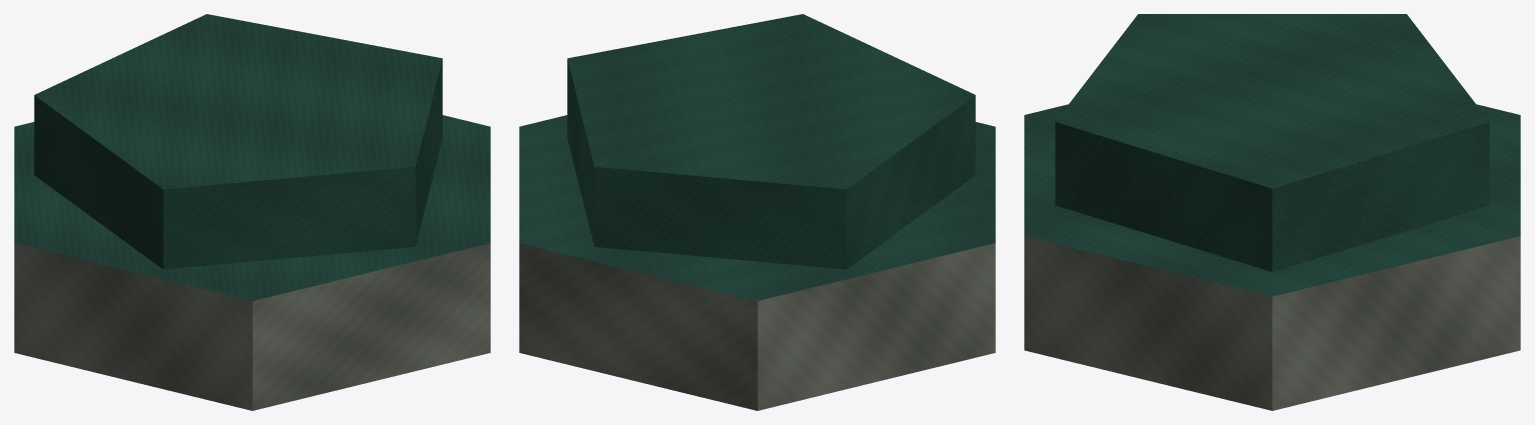
File: prop_plaza_planter_LOD2.glb
The picture shows the model from 3 angles, left to right: view 1: azimuth 30°, elevation 25°; view 2: azimuth 150°, elevation 25°; view 3: azimuth 270°, elevation 25°; orthographic projection. The views are drawn at different scales.
Parts seen in each view (by area): view 1: prop_plaza_planter__surface.002; view 2: prop_plaza_planter__surface.002; view 3: prop_plaza_planter__surface.002.
Part boxes in pixels (left/top/right/bottom): prop_plaza_planter__surface.002: left=14, top=14, right=490, bottom=410; prop_plaza_planter__surface.002: left=519, top=14, right=995, bottom=410; prop_plaza_planter__surface.002: left=1024, top=14, right=1520, bottom=410.
Bounding box in the file's own units: 1.68 × 0.64 × 1.45.
Materials: 2 (2 with a texture image).
